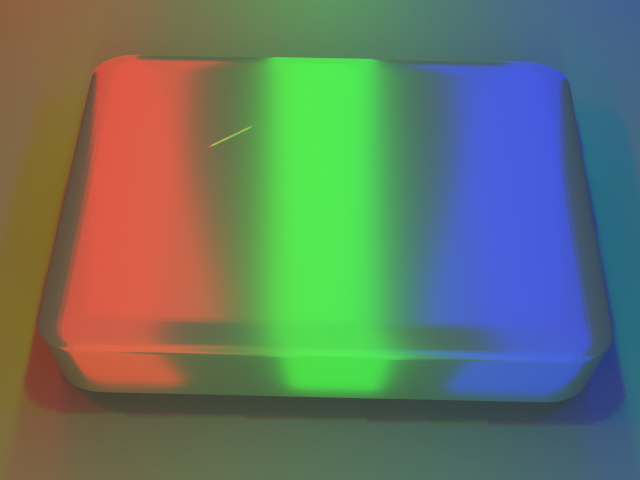scratch: (132, 80, 300, 170)
